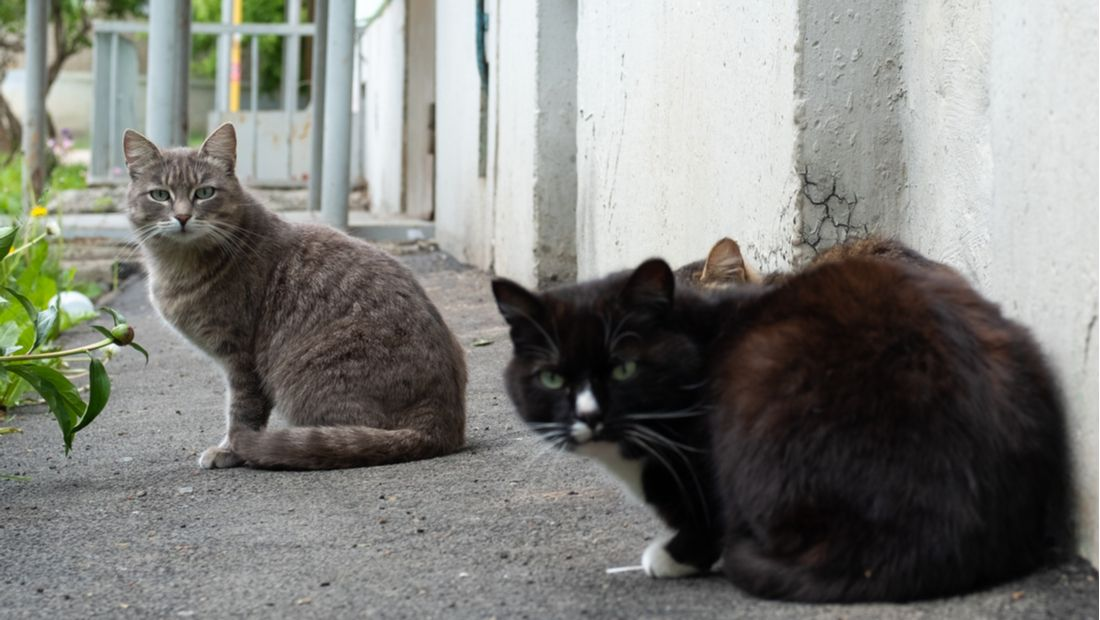Cat: (475, 223, 1093, 612), (113, 112, 483, 489)
